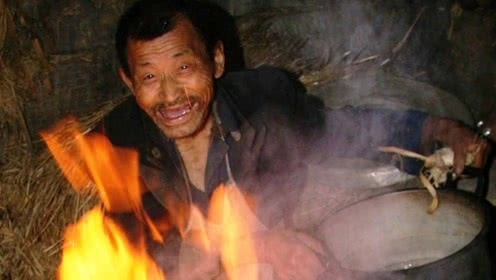fire: (34, 115, 169, 278), (163, 177, 261, 278)
